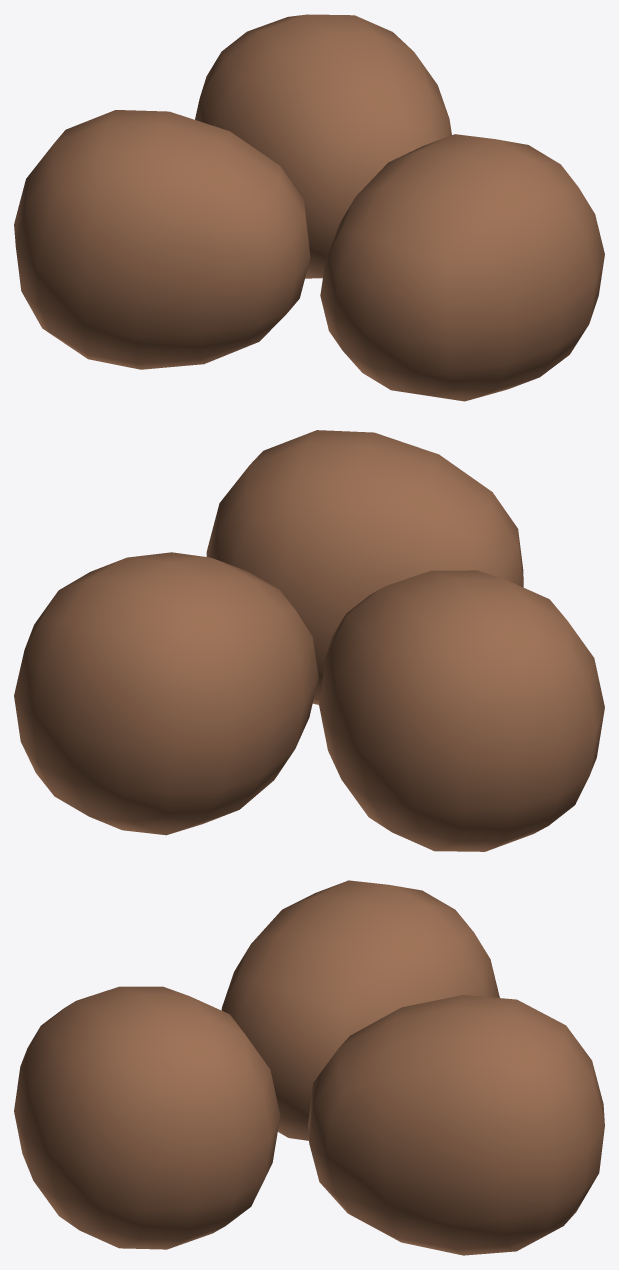
File: Bakery_Eggs_01.fbx
The picture shows the model from 3 angles, top to bottom: view 1: azimuth 30°, elevation 25°; view 2: azimuth 150°, elevation 25°; view 3: azimuth 270°, elevation 25°; orthographic projection. The views are drawn at different scales.
Visible parts, largest first — view 1: Bakery_Eggs_01; view 2: Bakery_Eggs_01; view 3: Bakery_Eggs_01.
Part boxes in pixels (x1,y1,x2,y2): Bakery_Eggs_01: [14, 14, 604, 401]; Bakery_Eggs_01: [14, 430, 604, 851]; Bakery_Eggs_01: [14, 880, 604, 1255].
Size of the model in its own units: 24.51 by 11.87 by 27.28.
